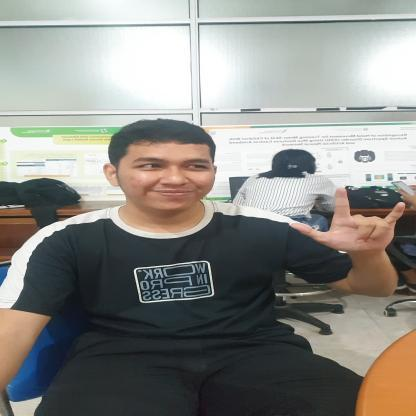ILoveYou: (281, 183, 411, 282)
